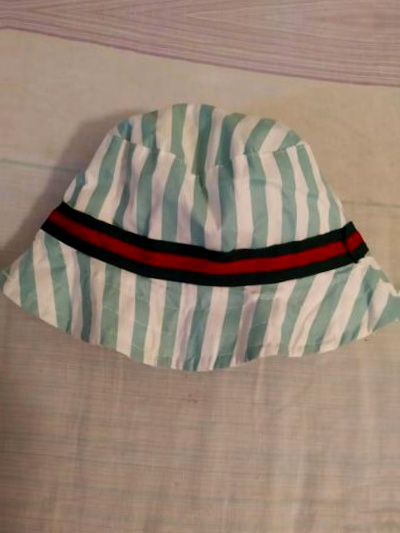Hat: (2, 104, 388, 386), (0, 92, 1, 374)
